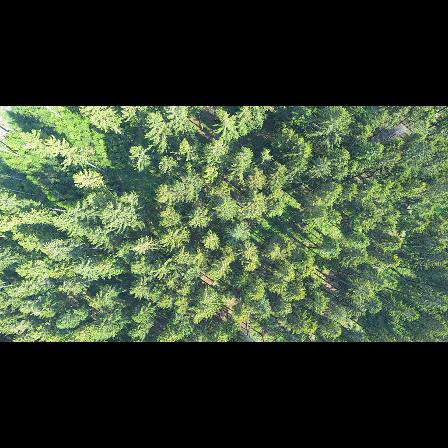Dead: (385, 123, 411, 139)
